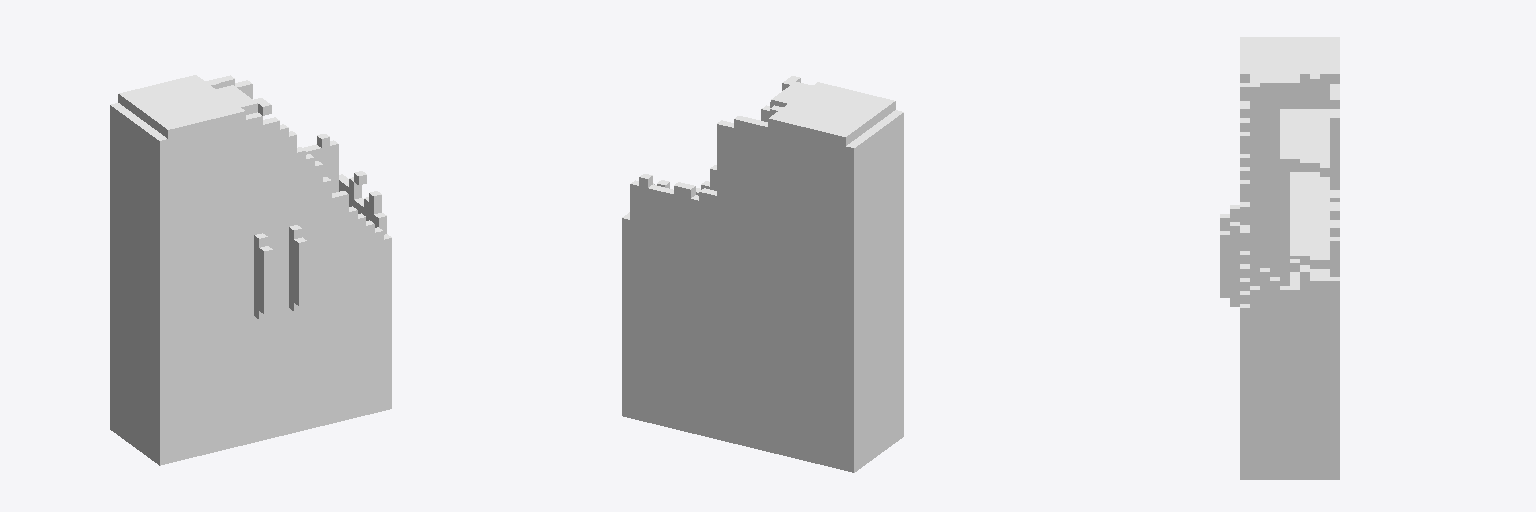
The model's file is Armoire(cassé)-0.obj.
The picture shows the model from 3 angles: view 1: azimuth 30°, elevation 25°; view 2: azimuth 150°, elevation 25°; view 3: azimuth 270°, elevation 25°; orthographic projection.
Parts seen in each view (by area): view 1: object 1; view 2: object 1; view 3: object 1.
Boxes of the visible parts, x1,y1,x2,y2 form: object 1: [110, 75, 391, 465]; object 1: [622, 76, 903, 472]; object 1: [1220, 37, 1339, 479].
Bounding box in the file's own units: 2.7 × 3.7 × 1.2.